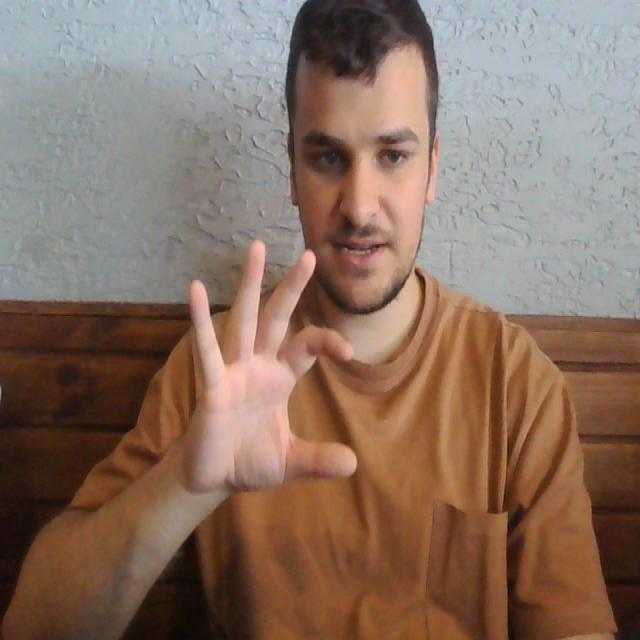Tuvalet: (185, 221, 358, 505)
